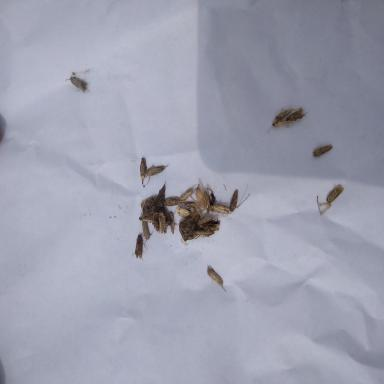pbw: (229, 185, 251, 211), (207, 264, 226, 291), (65, 71, 88, 92), (143, 161, 168, 179), (326, 182, 344, 204), (208, 200, 230, 216), (312, 142, 332, 158), (155, 186, 167, 211), (190, 228, 215, 240), (140, 194, 150, 224), (180, 182, 197, 199), (140, 215, 151, 240), (167, 210, 180, 231), (133, 234, 144, 258), (139, 157, 148, 184), (157, 210, 167, 234), (172, 207, 190, 219), (202, 189, 210, 216), (162, 195, 180, 206), (201, 222, 221, 228)
